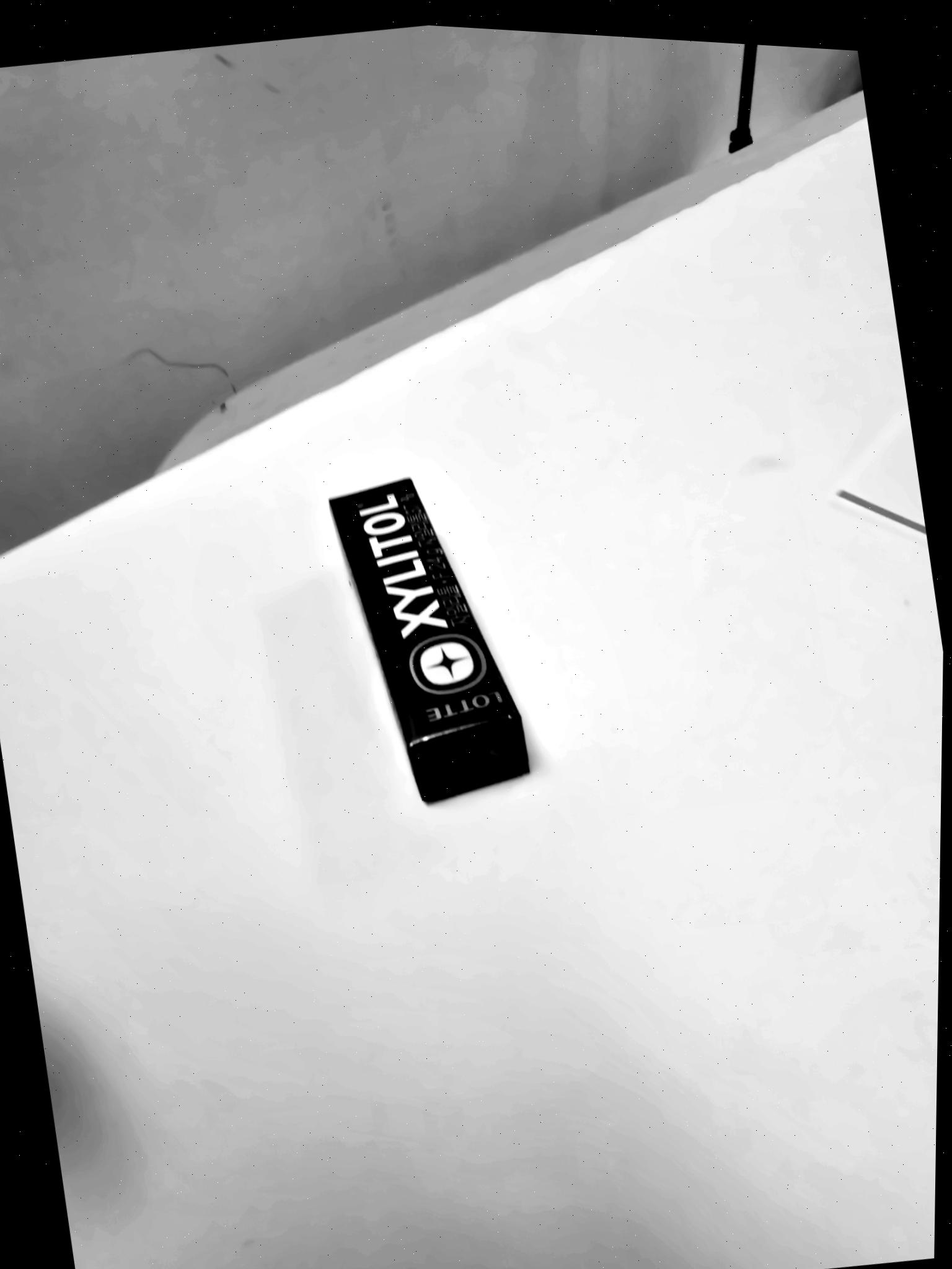gum_green: (330, 479, 528, 801)
